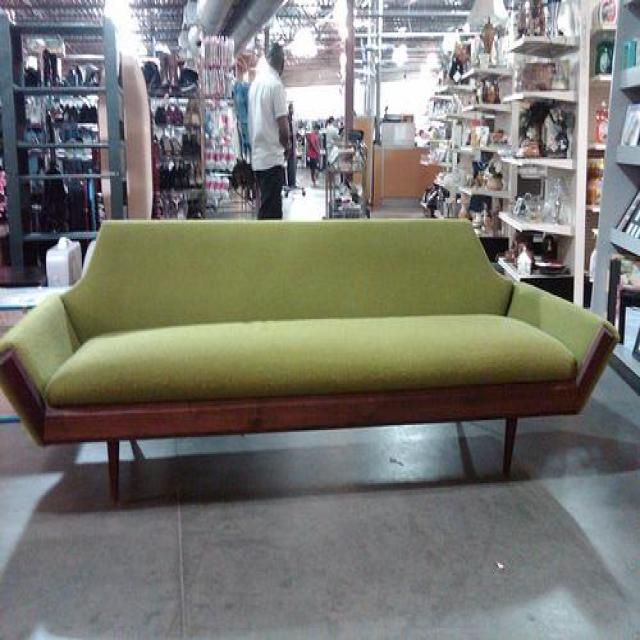sofa: (0, 215, 620, 505)
